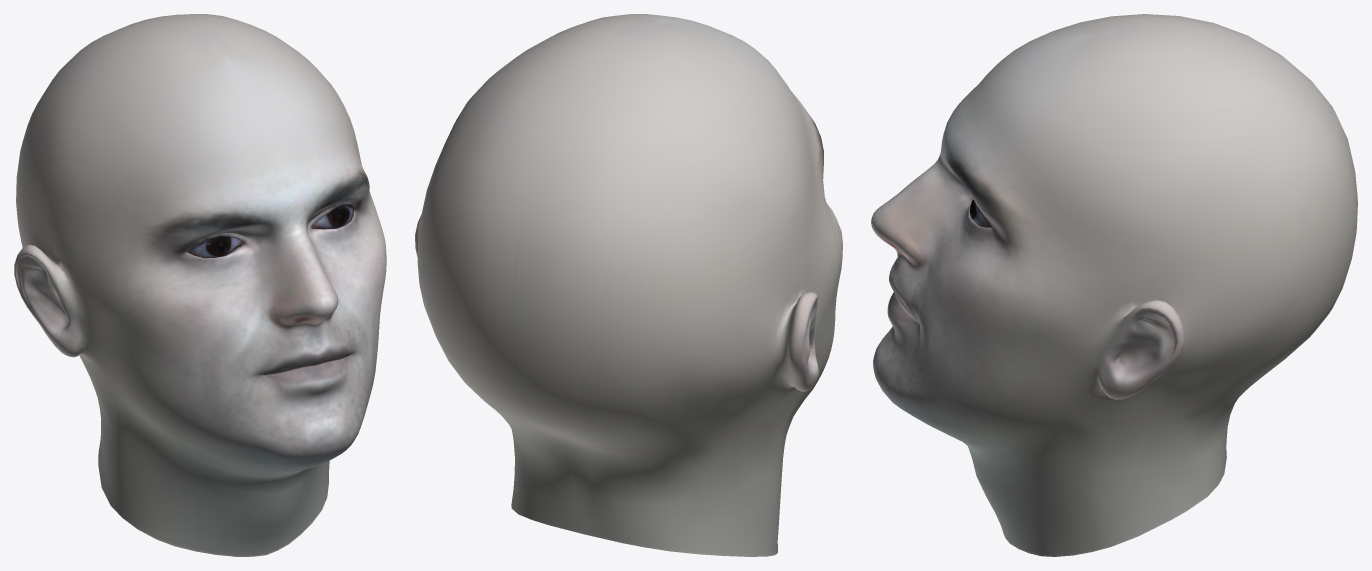
3 views of the same model, side by side, from view 1: azimuth 30°, elevation 25°; view 2: azimuth 150°, elevation 25°; view 3: azimuth 270°, elevation 25° (orthographic). The views are drawn at different scales.
Parts seen in each view (by area): view 1: skin_hi, eyeR_hi, eyeL_hi; view 2: skin_hi; view 3: skin_hi.
Part boxes in pixels (bbox=[...]): skin_hi: bbox=[14, 14, 386, 556]; eyeR_hi: bbox=[187, 236, 242, 258]; eyeL_hi: bbox=[311, 205, 354, 229]; skin_hi: bbox=[415, 14, 842, 556]; skin_hi: bbox=[871, 14, 1357, 556].
Bounding box in the file's own units: 208 × 278 × 244.
